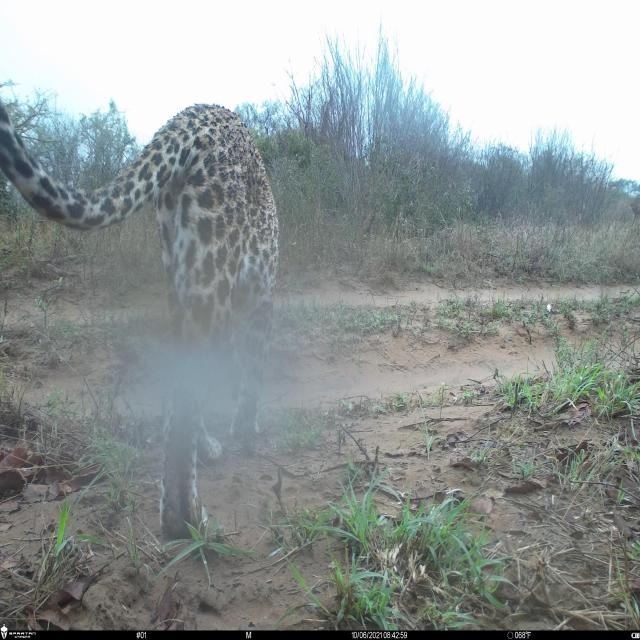Leopard: (19, 79, 295, 344)
